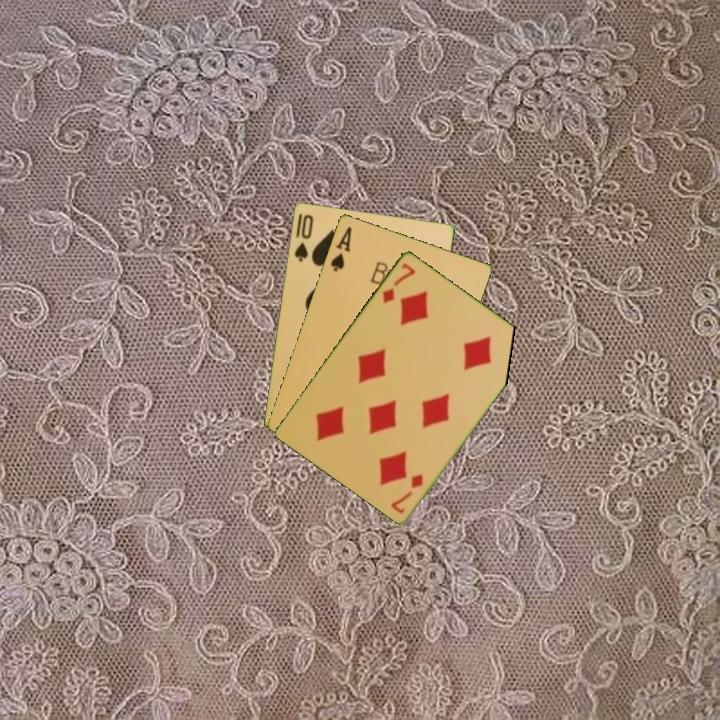10s: (290, 211, 316, 264)
7d: (379, 259, 418, 306), (387, 469, 426, 516)
As: (327, 222, 354, 274)
